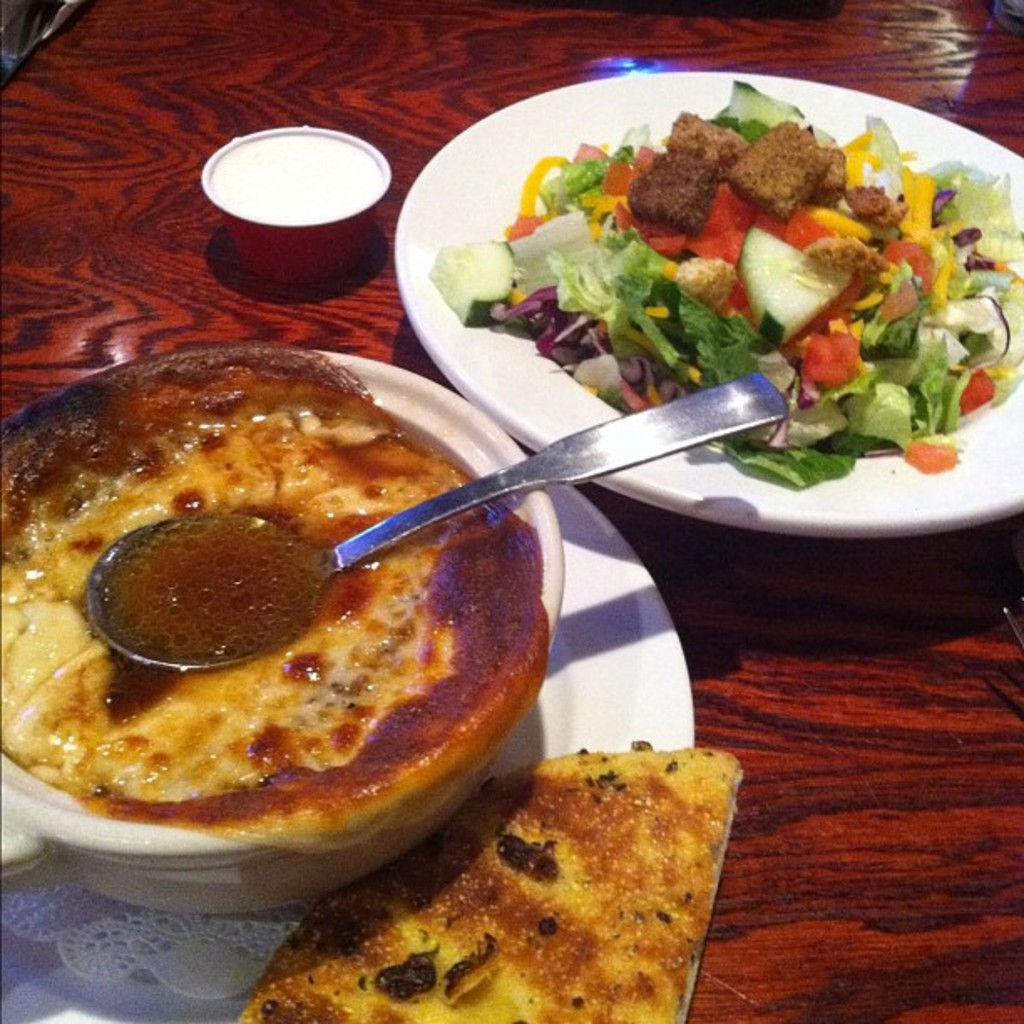salad: (427, 74, 1022, 497)
